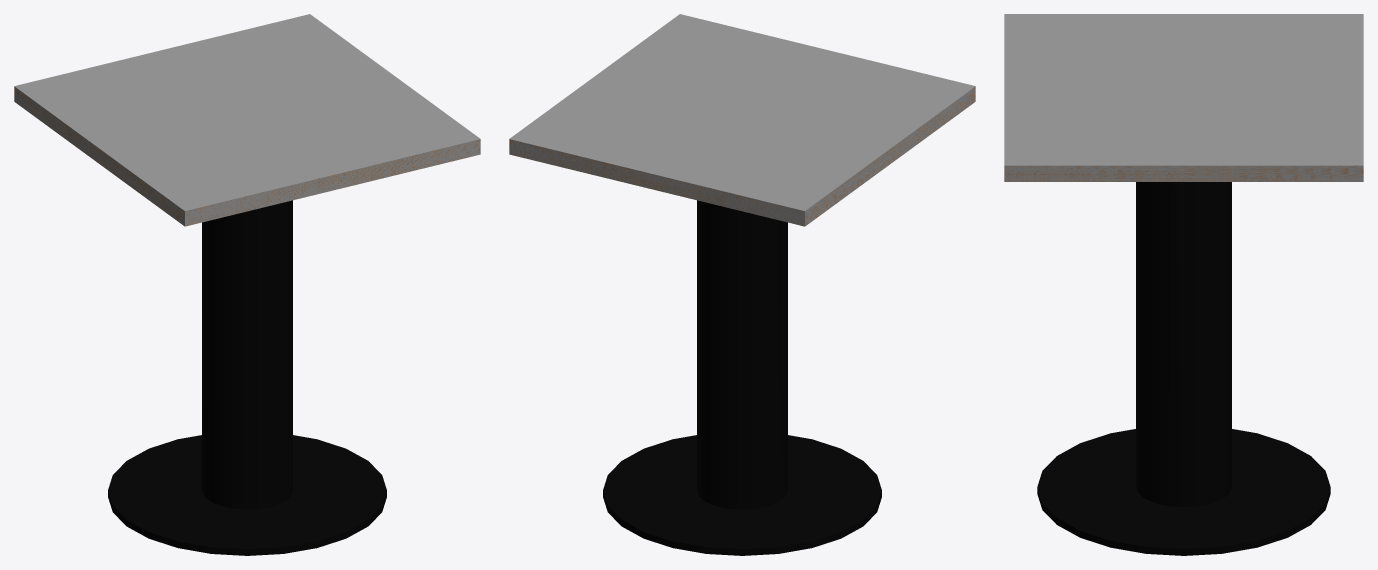
The model's file is Table2.dae.
The picture shows the model from 3 angles, left to right: view 1: azimuth 30°, elevation 25°; view 2: azimuth 150°, elevation 25°; view 3: azimuth 270°, elevation 25°; orthographic projection. The views are drawn at different scales.
Visible parts, largest first — view 1: SketchUp_007, SketchUp_001, SketchUp, SketchUp_008; view 2: SketchUp_007, SketchUp_001, SketchUp, SketchUp_008; view 3: SketchUp_007, SketchUp_001, SketchUp, SketchUp_008.
Boxes of the visible parts, x1,y1,x2,y2 form: SketchUp_007: [14, 14, 480, 210]; SketchUp_001: [202, 200, 292, 509]; SketchUp: [108, 435, 386, 555]; SketchUp_008: [14, 86, 480, 226]; SketchUp_007: [509, 14, 975, 210]; SketchUp_001: [697, 200, 787, 509]; SketchUp: [603, 435, 881, 555]; SketchUp_008: [509, 86, 975, 226]; SketchUp_007: [1004, 14, 1363, 165]; SketchUp_001: [1136, 182, 1231, 507]; SketchUp: [1037, 429, 1330, 555]; SketchUp_008: [1004, 165, 1363, 181].
Bounding box in the file's own units: 0.6 × 0.6 × 0.745.
